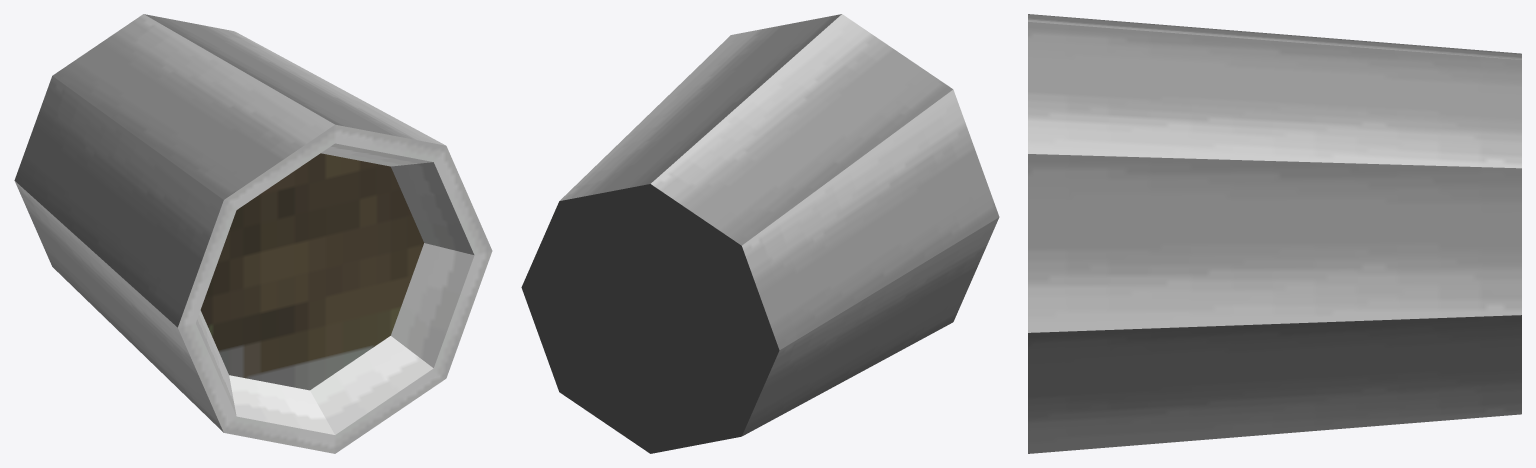
File: pz_plant_native_34.obj
3 renders of one model, left to right at view 1: azimuth 30°, elevation 25°; view 2: azimuth 150°, elevation 25°; view 3: azimuth 270°, elevation 25°, orthographic. The views are drawn at different scales.
Visible parts, largest first — view 1: pot_soil_and_rim; view 2: pot_soil_and_rim; view 3: pot_soil_and_rim.
Part boxes in pixels (box(x1,y1,x2,y2)): pot_soil_and_rim: box(14, 14, 492, 453); pot_soil_and_rim: box(521, 14, 999, 453); pot_soil_and_rim: box(1028, 14, 1521, 453).
Bounding box in the file's own units: 0.4198 × 0.4198 × 0.4428.
Materials: 1 (1 with a texture image).
